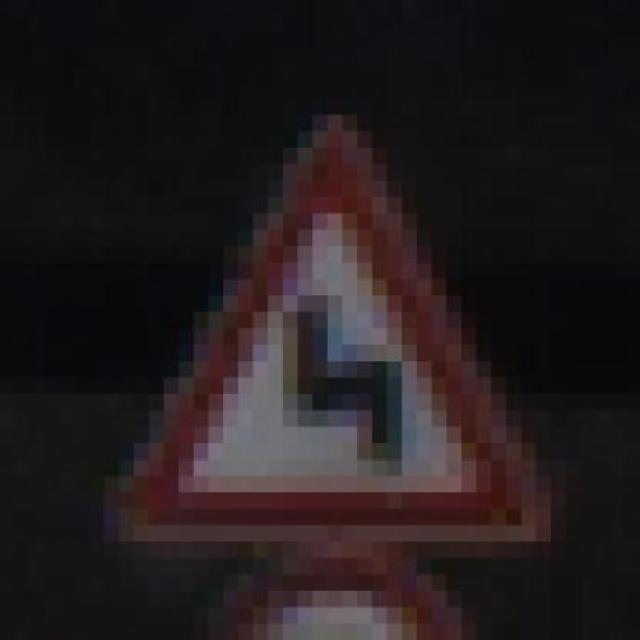Left Zig Zag Traffic: (75, 115, 550, 558)
